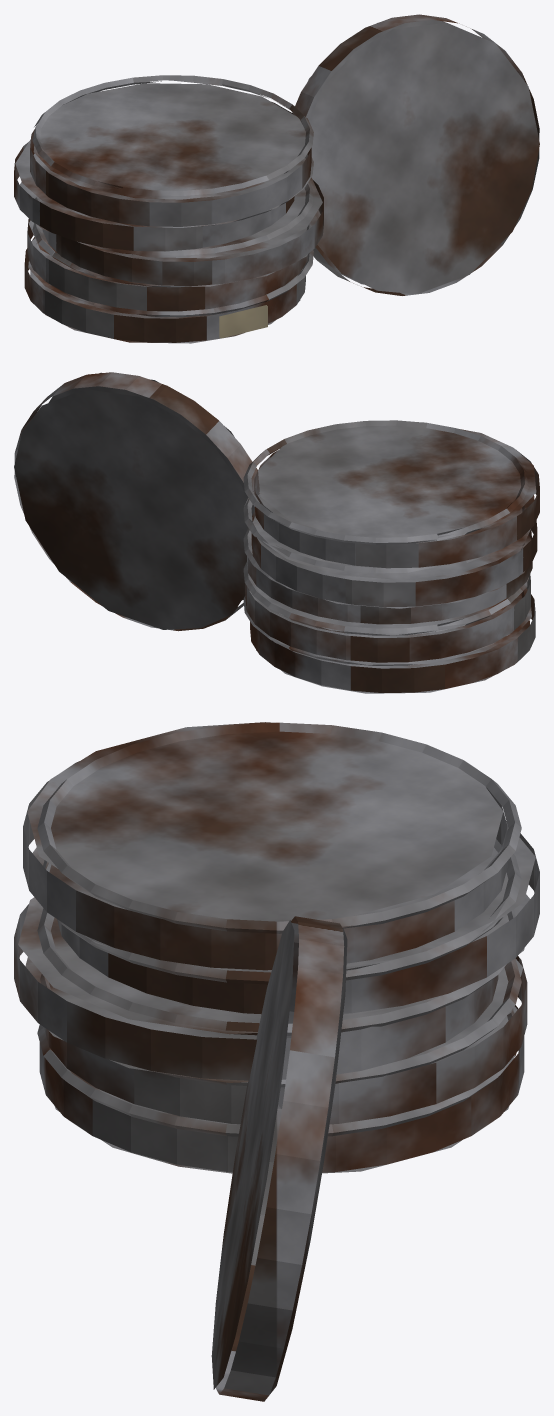
The model's file is Q04_film_reel_cans_v3.glb.
The picture shows the model from 3 angles, top to bottom: view 1: azimuth 30°, elevation 25°; view 2: azimuth 150°, elevation 25°; view 3: azimuth 270°, elevation 25°; orthographic projection. The views are drawn at different scales.
Visible parts, largest first — view 1: Q04_film_reel_cans_v3; view 2: Q04_film_reel_cans_v3; view 3: Q04_film_reel_cans_v3.
Part boxes in pixels (x1,y1,x2,y2): Q04_film_reel_cans_v3: [14, 14, 539, 343]; Q04_film_reel_cans_v3: [14, 372, 539, 693]; Q04_film_reel_cans_v3: [14, 722, 539, 1401].
Bounding box in the file's own units: 0.4 × 0.1976 × 0.2143.
Materials: 2 (2 with a texture image).
